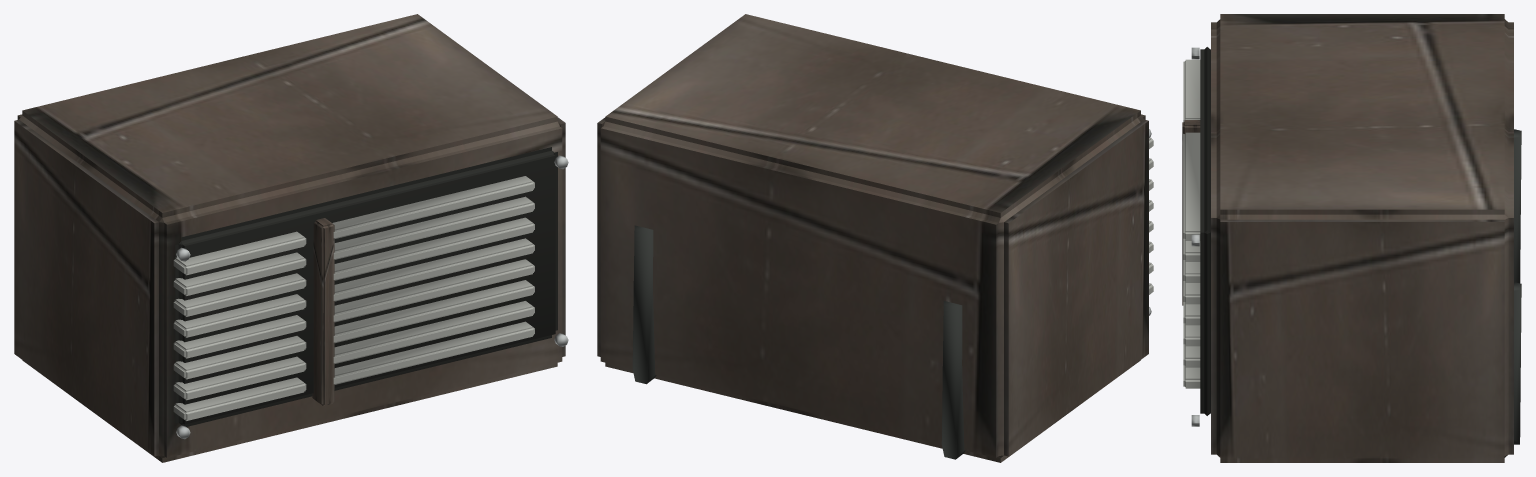
Rendered from window-ac.glb.
3 views of the same model, side by side, from view 1: azimuth 30°, elevation 25°; view 2: azimuth 150°, elevation 25°; view 3: azimuth 270°, elevation 25° (orthographic).
Parts seen in each view (by area): view 1: Frame; view 2: Frame; view 3: Frame.
Boxes of the visible parts, left/top/right/bottom form: Frame: left=14, top=14, right=568, bottom=462; Frame: left=597, top=14, right=1153, bottom=462; Frame: left=1182, top=14, right=1521, bottom=462.
Size of the model in its own units: 0.62 by 0.3605 by 0.4367.
5 materials, 1 textured.
